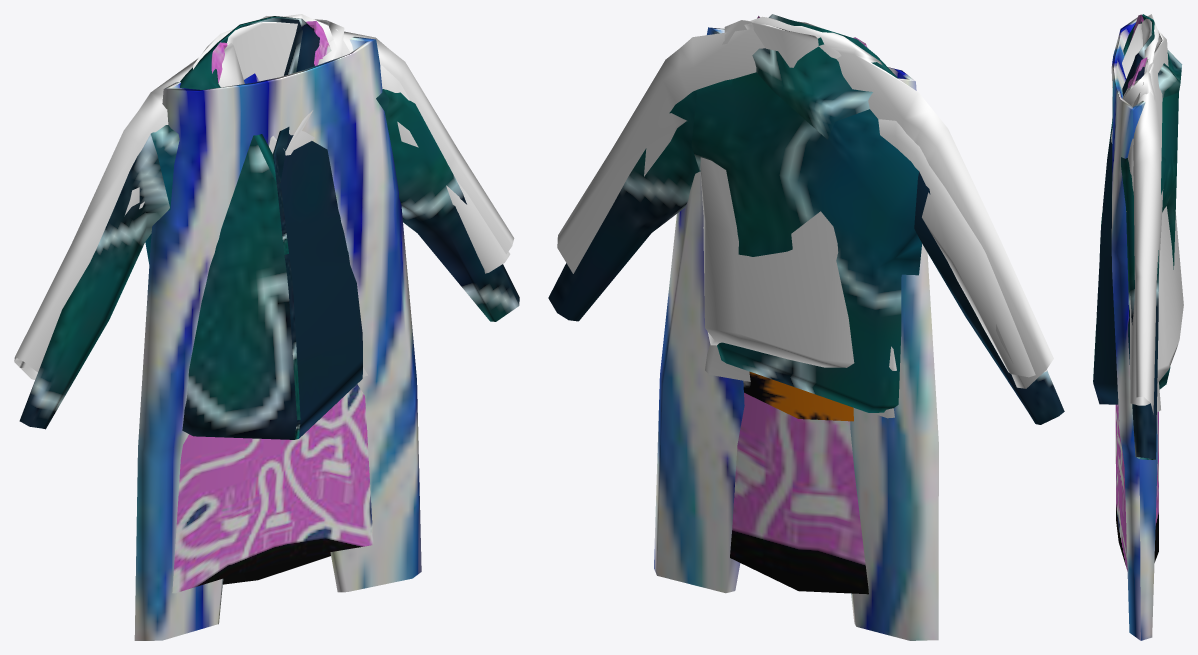
Rendered from clothes_unrigg.fbx.
The picture shows the model from 3 angles, left to right: view 1: azimuth 30°, elevation 25°; view 2: azimuth 150°, elevation 25°; view 3: azimuth 270°, elevation 25°; orthographic projection. The views are drawn at different scales.
Parts seen in each view (by area): view 1: Jean5_1, Windbreaker3_1, Dress_2_11, Female_Leather_Jacket_1, Hoodie; view 2: Windbreaker3_1, Jean5_1, Hoodie, Female_Leather_Jacket_1, Dress_2_11, TankTop2; view 3: Jean5_1, Windbreaker3_1, Female_Leather_Jacket_1, Hoodie, Dress_2_11.
Part boxes in pixels (box(x1,y1,x2,y2)): Jean5_1: box(134, 36, 421, 640); Windbreaker3_1: box(19, 16, 519, 439); Dress_2_11: box(172, 21, 373, 593); Female_Leather_Jacket_1: box(14, 14, 514, 379); Hoodie: box(19, 16, 510, 367); Windbreaker3_1: box(548, 14, 1064, 424); Jean5_1: box(654, 27, 938, 640); Hoodie: box(700, 20, 1047, 377); Female_Leather_Jacket_1: box(557, 16, 1053, 418); Dress_2_11: box(730, 16, 868, 594); TankTop2: box(743, 371, 853, 421); Jean5_1: box(1111, 17, 1157, 640); Windbreaker3_1: box(1093, 14, 1182, 459); Female_Leather_Jacket_1: box(1133, 14, 1163, 414); Hoodie: box(1111, 23, 1183, 405); Dress_2_11: box(1115, 14, 1158, 571).
Bounding box in the file's own units: 278 × 46.51 × 309.
